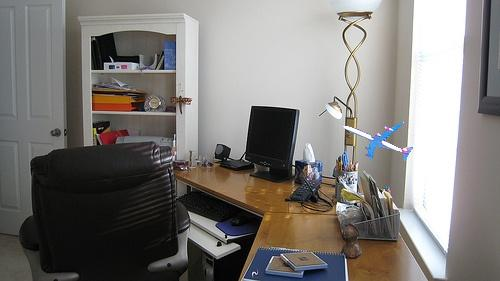tampered: (344, 123, 413, 161)
